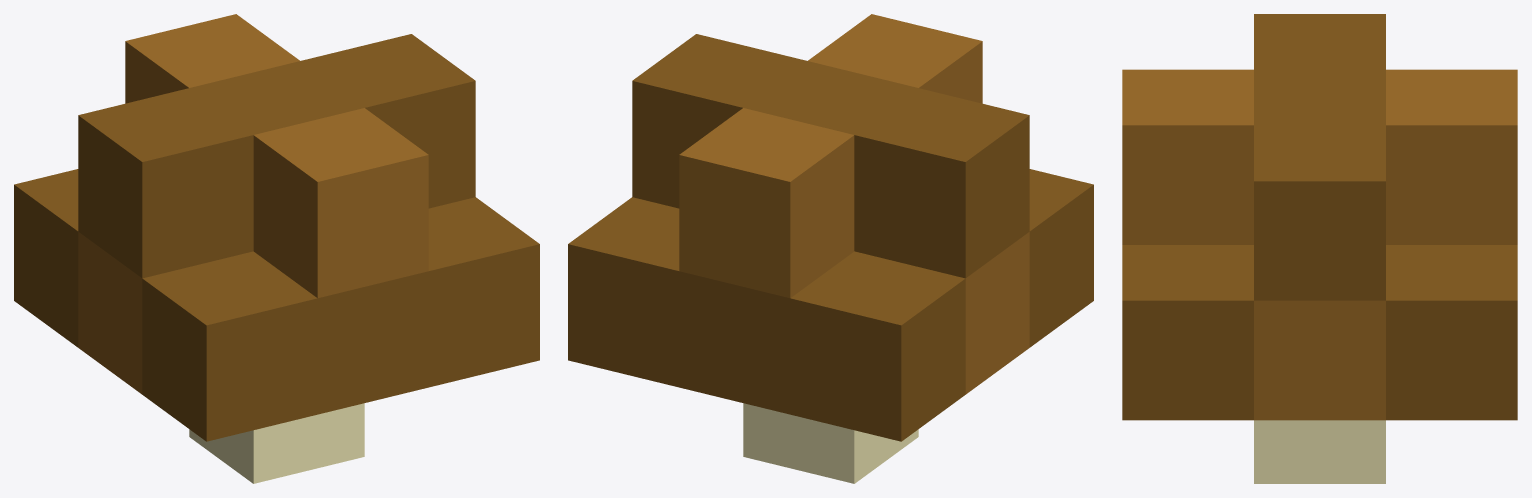
File: Mushroom2_S.obj
The picture shows the model from 3 angles, left to right: view 1: azimuth 30°, elevation 25°; view 2: azimuth 150°, elevation 25°; view 3: azimuth 270°, elevation 25°; orthographic projection. The views are drawn at different scales.
Visible parts, largest first — view 1: Mushroom2_S; view 2: Mushroom2_S; view 3: Mushroom2_S.
Boxes of the visible parts, x1=… form: Mushroom2_S: x1=14, y1=14, x2=539, y2=483; Mushroom2_S: x1=568, y1=14, x2=1093, y2=483; Mushroom2_S: x1=1122, y1=14, x2=1517, y2=483.
Bounding box in the file's own units: 0.3 × 0.3 × 0.3.
Materials: 1 (1 with a texture image).
